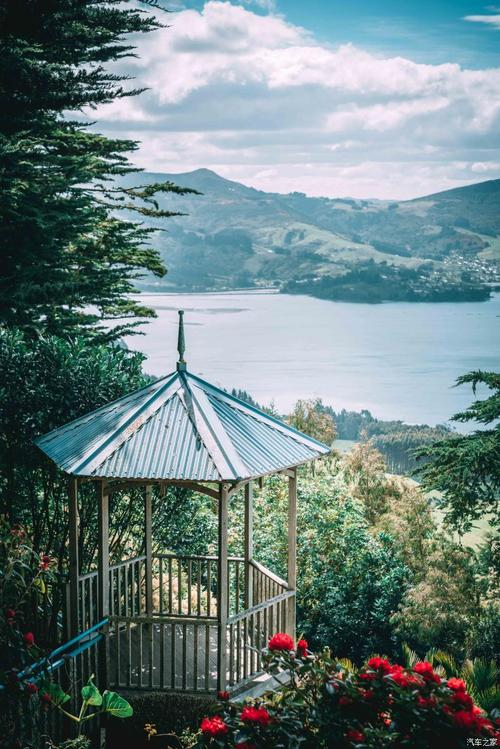buildings: (32, 340, 350, 720)
mountain: (89, 159, 489, 296)
